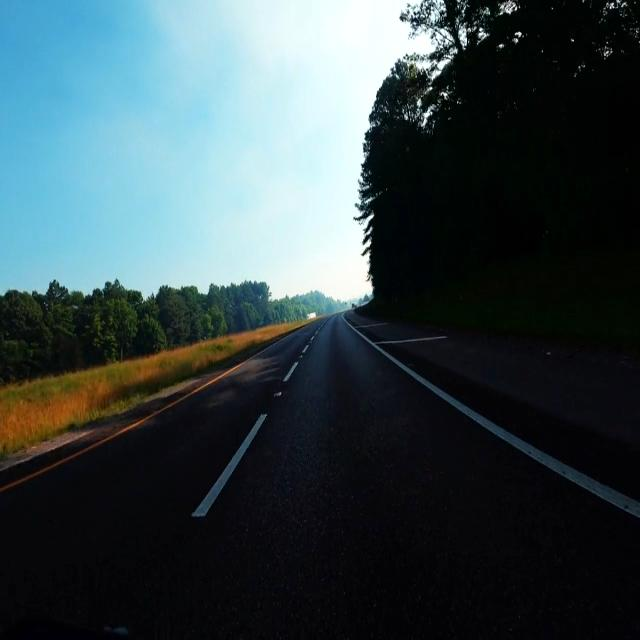lane: (342, 316, 640, 517), (0, 356, 256, 493), (192, 413, 266, 518), (284, 362, 299, 382)
road: (0, 316, 640, 637), (380, 342, 640, 500)
